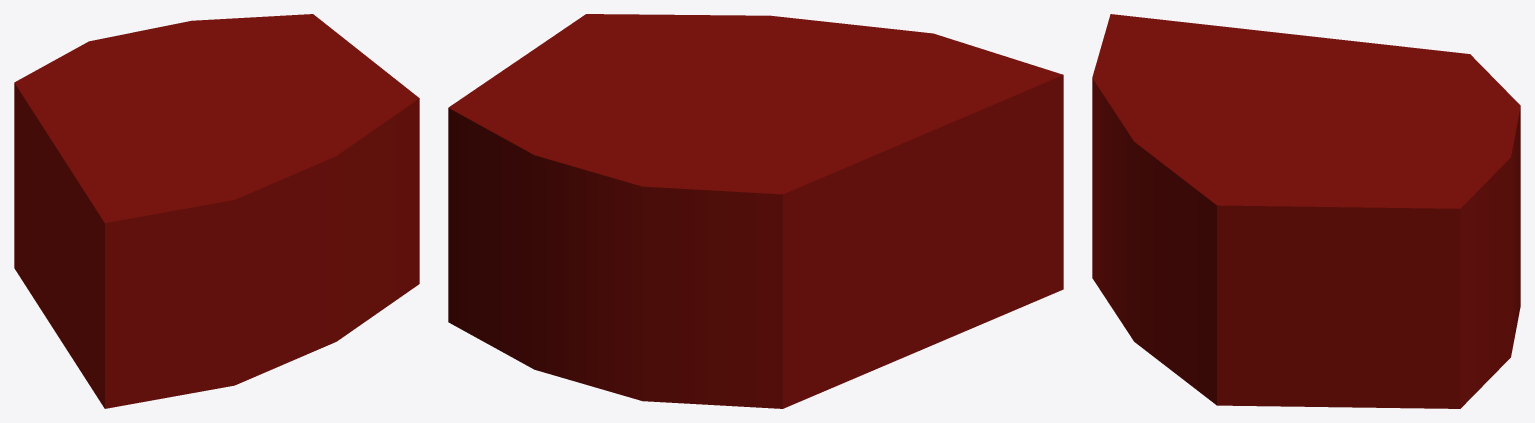
File: Steak_Piece5.FBX
3 views of the same model, side by side, from view 1: azimuth 30°, elevation 25°; view 2: azimuth 150°, elevation 25°; view 3: azimuth 270°, elevation 25° (orthographic). The views are drawn at different scales.
Parts seen in each view (by area): view 1: Steak_Piece5; view 2: Steak_Piece5; view 3: Steak_Piece5.
Boxes of the visible parts, x1,y1,x2,y2 form: Steak_Piece5: (14, 14, 419, 408); Steak_Piece5: (448, 14, 1063, 408); Steak_Piece5: (1092, 14, 1520, 408).
Size of the model in its own units: 719 by 668 by 344.
